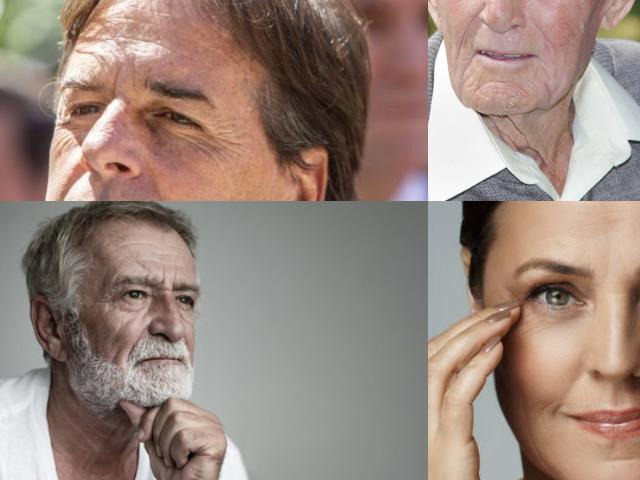chin: (462, 60, 483, 95), (601, 450, 640, 467), (486, 72, 512, 90), (538, 78, 558, 98)
crows_feet: (196, 122, 230, 162)
forehead: (122, 28, 164, 50), (116, 236, 142, 250), (134, 255, 150, 271)
frown_line: (108, 65, 126, 97), (156, 268, 168, 288)
gummy_smile: (459, 8, 477, 50), (56, 175, 78, 201), (534, 23, 554, 48)
masseter: (524, 432, 550, 472)
sad_smile: (538, 396, 562, 422)
